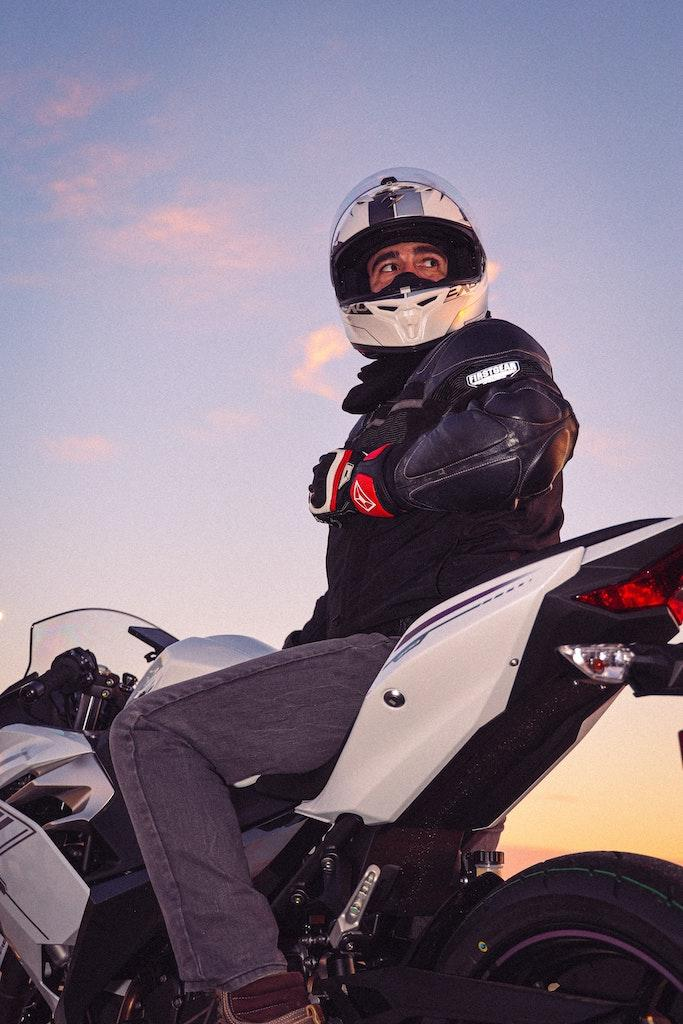helmet: (328, 165, 492, 360)
